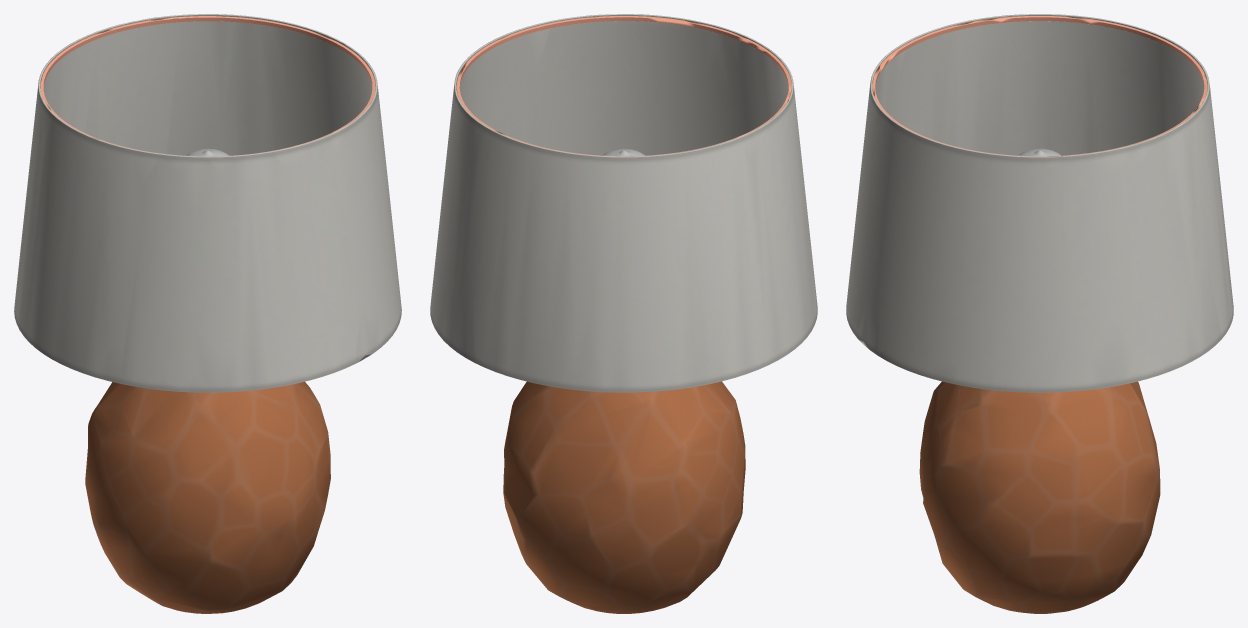
3 views of the same model, side by side, from view 1: azimuth 30°, elevation 25°; view 2: azimuth 150°, elevation 25°; view 3: azimuth 270°, elevation 25° (orthographic).
Parts seen in each view (by area): view 1: RootNode; view 2: RootNode; view 3: RootNode.
Boxes of the visible parts, x1,y1,x2,y2 form: RootNode: (14,14,401,613); RootNode: (430,14,817,613); RootNode: (846,14,1233,613).
Bounding box in the file's own units: 0.2974 × 0.427 × 0.2974.
1 material, 1 textured.
